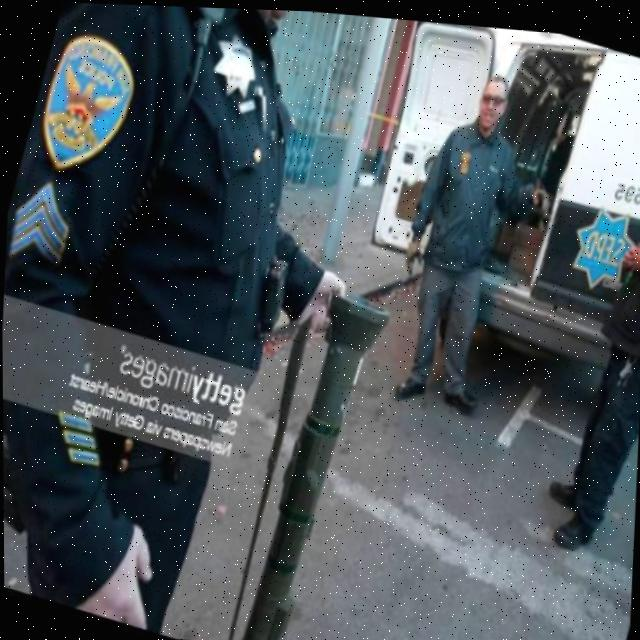rocket: (220, 263, 399, 640)
